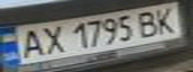1: (66, 19, 87, 49)
5: (115, 11, 139, 43)
7: (84, 17, 106, 47)
9: (100, 15, 124, 45)
A: (15, 26, 48, 60)
B: (133, 8, 163, 38)
K: (148, 5, 181, 35)
X: (36, 24, 69, 56)
